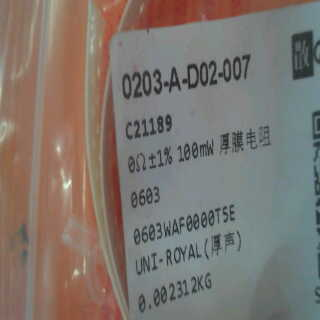0R: (121, 145, 175, 216)
